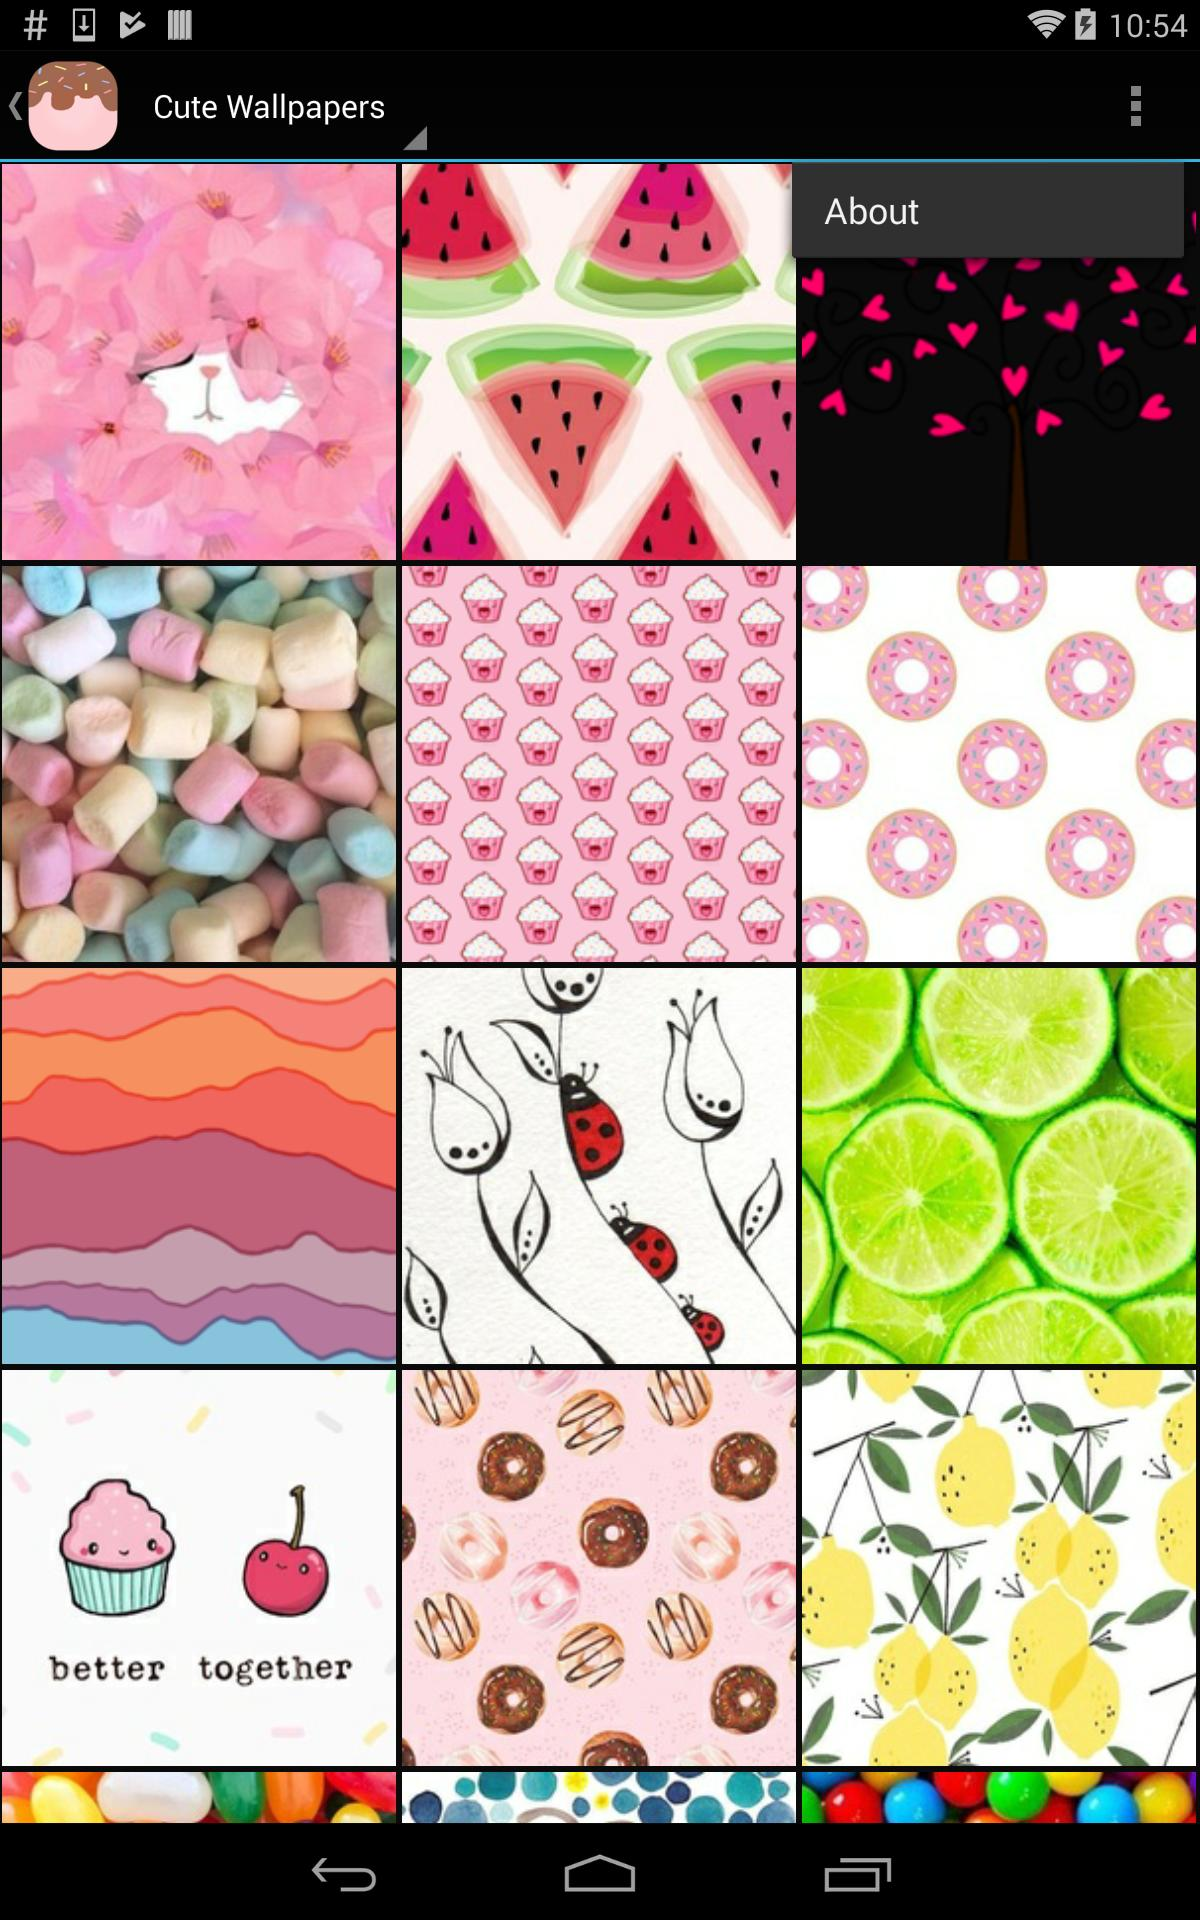android.widget.FrameLayout: (776, 147, 1200, 274)
android.widget.LinearLayout: (792, 162, 1183, 258)
android.widget.RelativeLayout: (824, 185, 1152, 234)
android.widget.TextView: (824, 185, 1152, 234)
